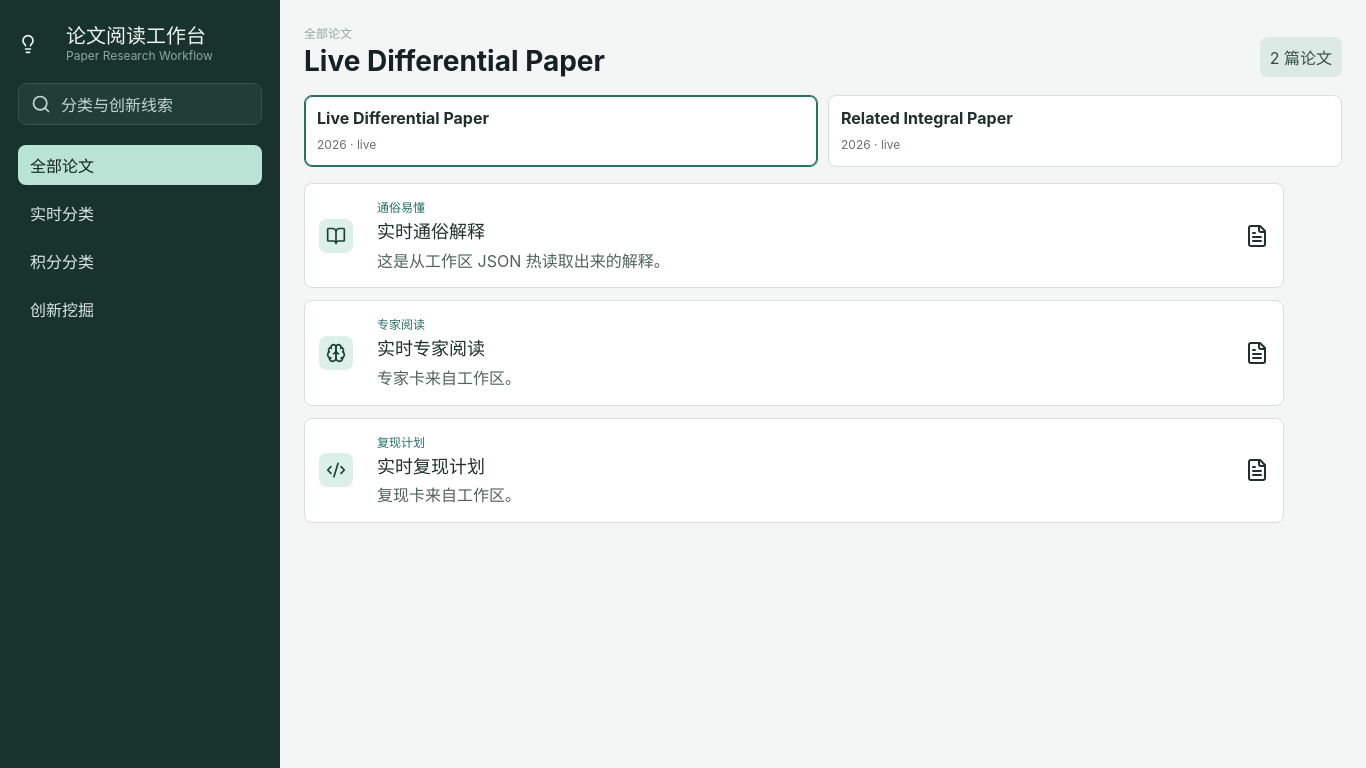
Test: Paper research workbench › generates platform prompts from reader chat input
The width and height of the screenshot is (1366, 768).
Click the button "通俗易懂 实时通俗解释 这是从工作区 JSON 热读取出来的解释。" at [336, 236], box [304,183,1284,288]
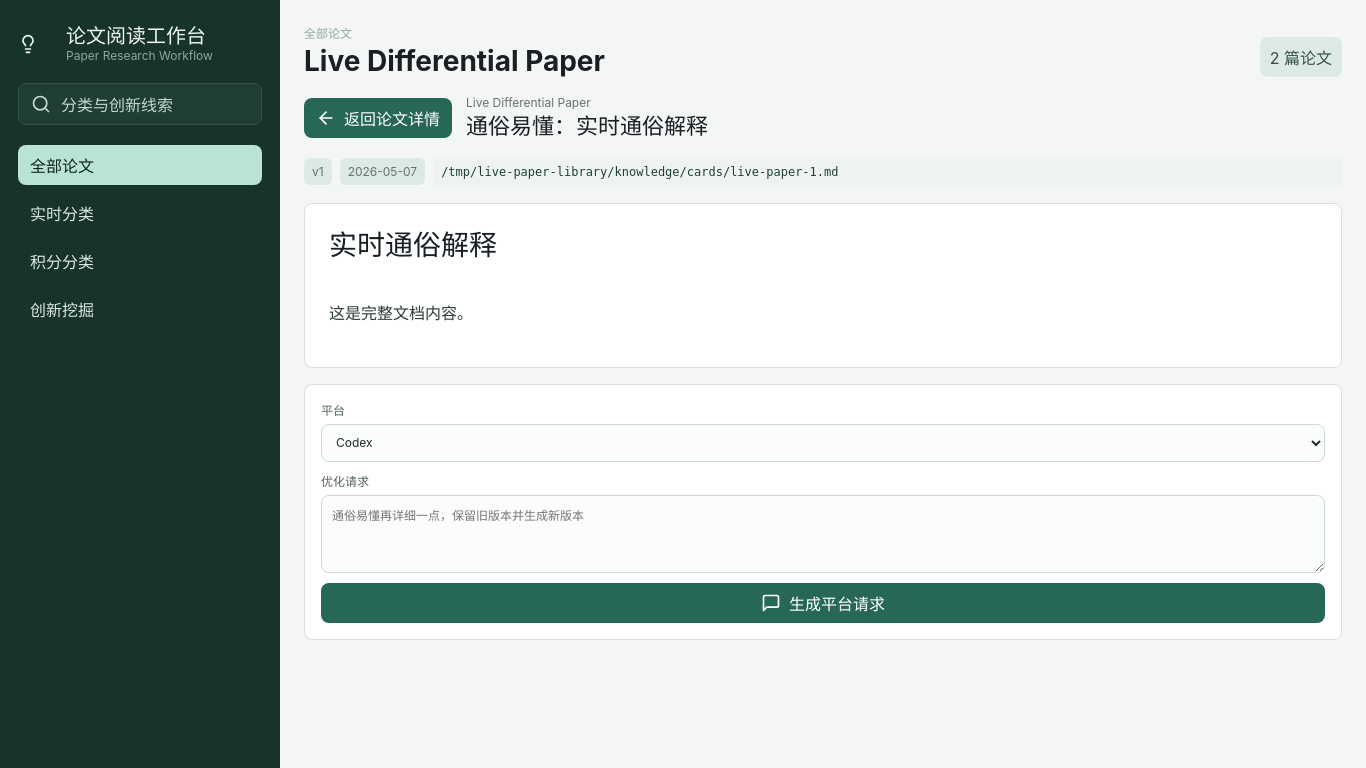
Type "请把通俗解释讲得更细" into the text box labelled "优化请求" at [823, 534], box [321,495,1325,573]
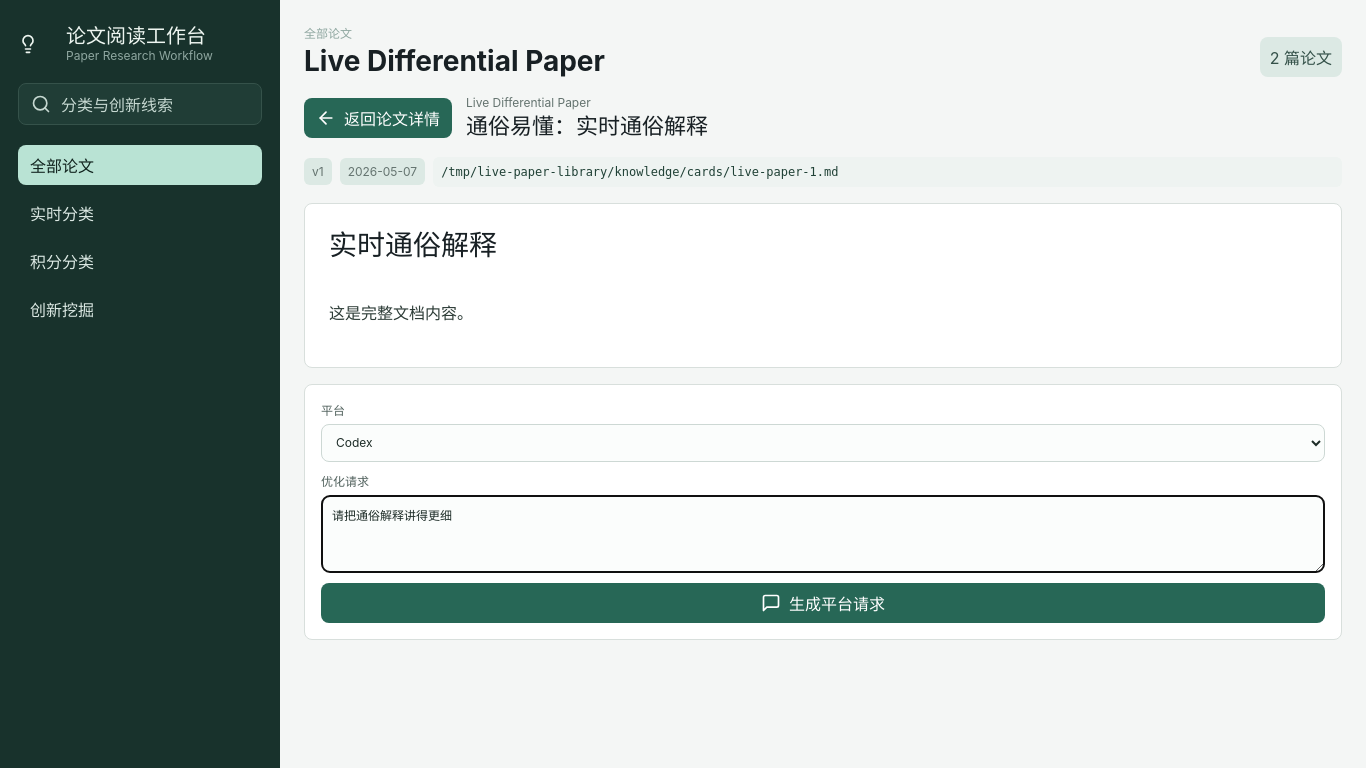
Click the button "生成平台请求" at [823, 603], box [321,583,1325,623]
(page scrolled)
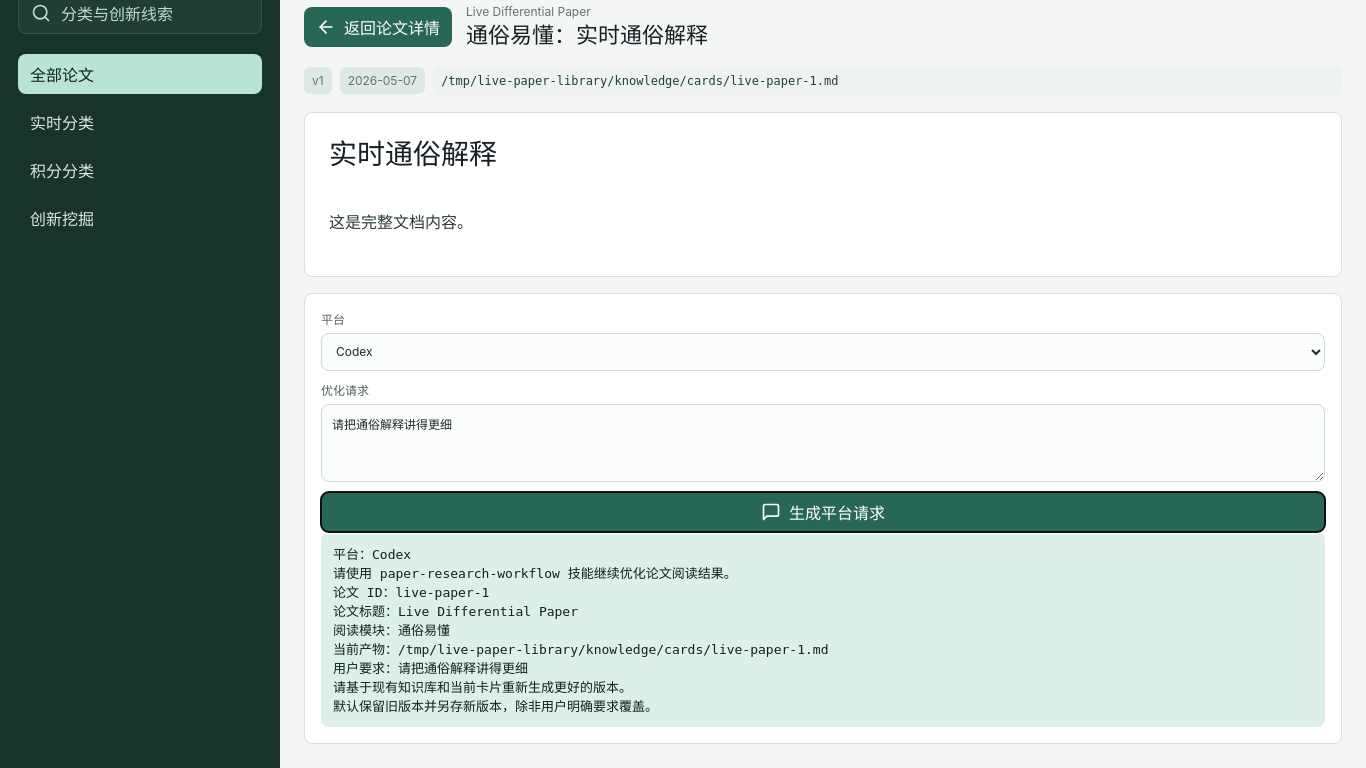
Check: the text named "通俗易懂平台请求" shows "请把通俗解释讲得更细", box [333,547,828,714]
Check: the text named "通俗易懂平台请求" shows "Codex", box [333,547,828,714]
